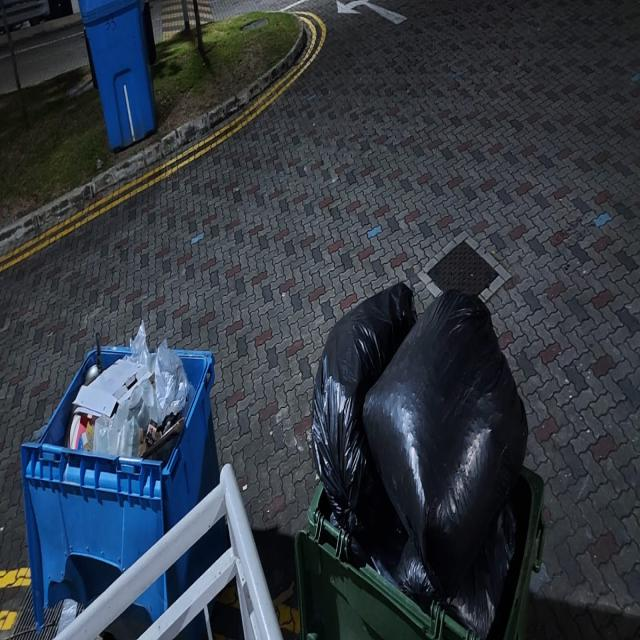bin_empty: (80, 0, 155, 149)
bin_full: (290, 294, 545, 640), (20, 336, 224, 639)
normal_waste: (379, 304, 512, 636), (312, 285, 414, 555), (91, 378, 154, 458), (154, 340, 190, 420), (130, 318, 157, 380)
